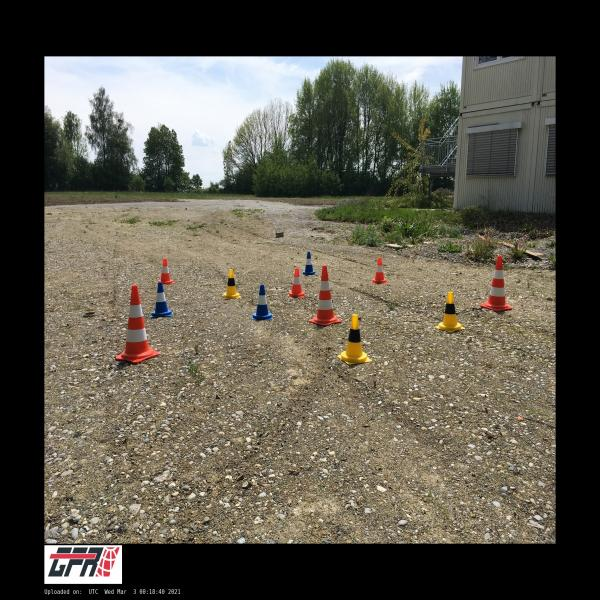blue_cone: (151, 282, 172, 317), (252, 285, 272, 320), (303, 251, 317, 275)
large_orange_cone: (115, 285, 159, 364), (310, 266, 341, 326), (481, 256, 512, 311)
orange_cone: (288, 268, 305, 298), (156, 258, 174, 284), (372, 258, 386, 284)
yellow_cone: (337, 314, 372, 365), (435, 291, 465, 333), (221, 269, 241, 299)
